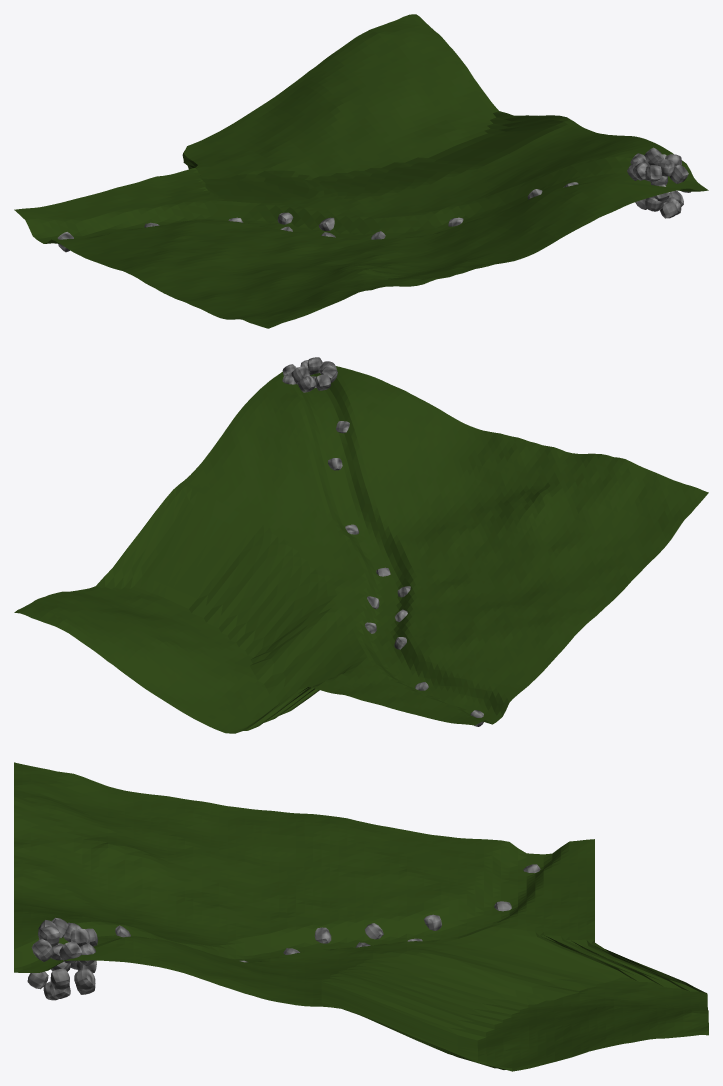
The model's file is 132_WaterShaderStream_Ground_Overview.fbx.
3 views of the same model, one above another, from view 1: azimuth 30°, elevation 25°; view 2: azimuth 150°, elevation 25°; view 3: azimuth 270°, elevation 25° (orthographic). The views are drawn at different scales.
Parts seen in each view (by area): view 1: transform3; view 2: transform3; view 3: transform3.
Boxes of the visible parts, x1,y1,x2,y2 form: transform3: (14, 14, 708, 328); transform3: (14, 357, 708, 733); transform3: (14, 762, 708, 1071).
Bounding box in the file's own units: 3257 × 1054 × 3798.
